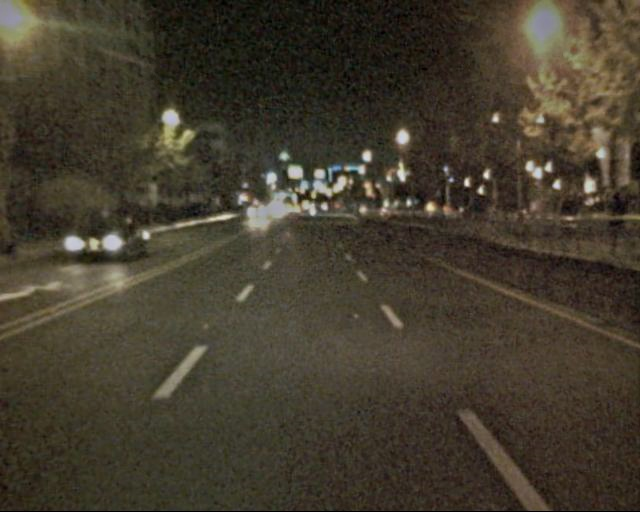person: (596, 189, 626, 263), (551, 183, 580, 253), (461, 190, 487, 224)
